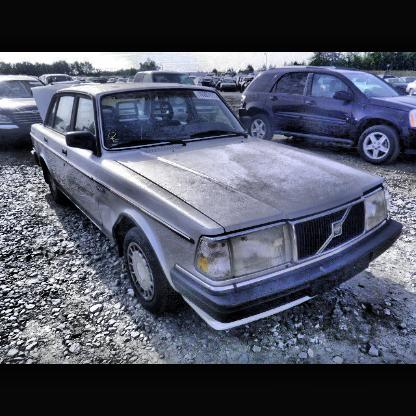Volvo 240 Sedan 1993: (28, 81, 406, 337)
